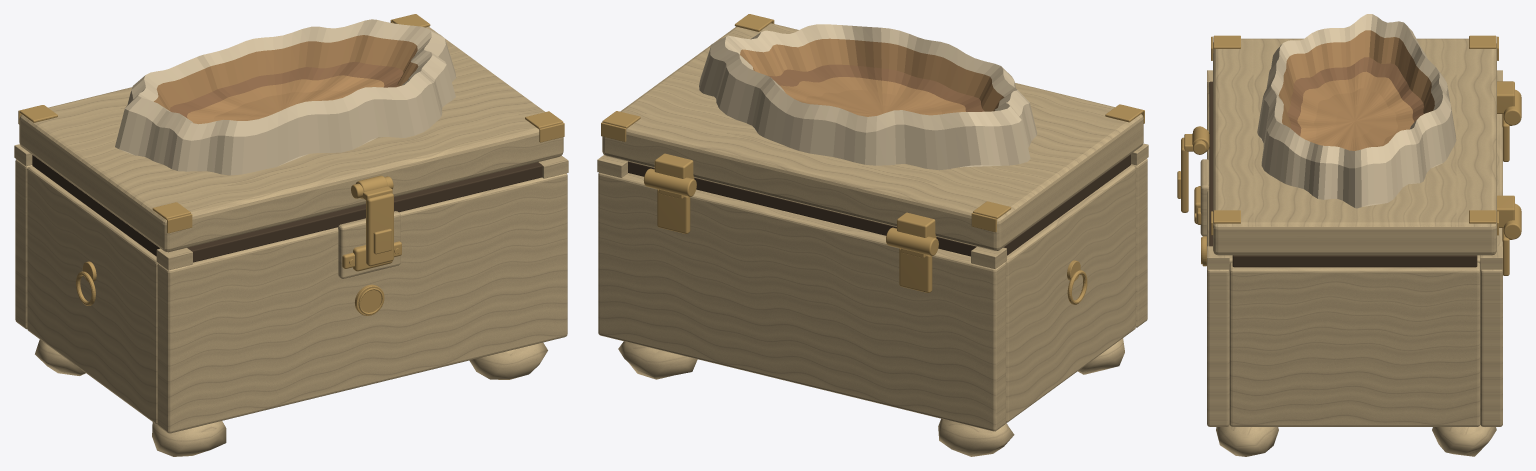
File: israel.glb
3 views of the same model, side by side, from view 1: azimuth 30°, elevation 25°; view 2: azimuth 150°, elevation 25°; view 3: azimuth 270°, elevation 25° (orthographic). The views are drawn at different scales.
Parts seen in each view (by area): view 1: Limestone / long wall, Lid / polished slab, Terrain / Negev erosion basin, Limestone / end wall, Mineral seam / long, Limestone / long wall.001, Limestone foot, Limestone foot.002, Latch / lifting hasp, Limestone / clasp seat, Mineral seam / side, Limestone foot.001 (+2 smaller); view 2: Limestone / long wall.001, Lid / polished slab, Terrain / Negev erosion basin, Limestone / end wall, Mineral seam / long.001, Limestone / long wall, Limestone foot.001, Limestone foot.003, Mineral seam / side, Hinge / fixed mount.001, Hinge / fixed mount, Hinge / fixed barrel (+5 smaller); view 3: Limestone / end wall.001, Lid / polished slab, Terrain / Negev erosion basin, Limestone / long wall.001, Limestone / long wall, Mineral seam / side.001, Limestone foot.002, Limestone foot.003, Limestone / clasp seat, Mineral seam / long, Latch / lifting hasp, Hinge / moving leaf (+9 smaller).
Boxes of the visible parts, box(x1,y1,x2,y2) form: Limestone / long wall: box(157, 173, 567, 433); Lid / polished slab: box(19, 26, 563, 252); Terrain / Negev erosion basin: box(115, 19, 456, 175); Limestone / end wall: box(27, 166, 158, 424); Mineral seam / long: box(187, 162, 542, 262); Limestone / long wall.001: box(15, 159, 32, 329); Limestone foot: box(152, 421, 226, 456); Limestone foot.002: box(469, 342, 547, 379); Latch / lifting hasp: box(366, 193, 393, 266); Limestone / clasp seat: box(338, 211, 400, 278); Mineral seam / side: box(32, 155, 159, 256); Limestone foot.001: box(35, 339, 85, 375); Limestone / long wall.001: box(598, 172, 1005, 431); Lid / polished slab: box(602, 23, 1143, 250); Terrain / Negev erosion basin: box(699, 24, 1036, 170); Limestone / end wall: box(1005, 165, 1135, 422); Mineral seam / long.001: box(628, 161, 976, 256); Limestone / long wall: box(1131, 158, 1147, 327); Limestone foot.001: box(938, 418, 1014, 456); Limestone foot.003: box(618, 341, 697, 379); Mineral seam / side: box(1003, 154, 1130, 255); Hinge / fixed mount.001: box(657, 189, 690, 233); Hinge / fixed mount: box(899, 248, 932, 292); Hinge / fixed barrel: box(886, 227, 938, 255); Limestone / end wall.001: box(1229, 262, 1480, 426); Lid / polished slab: box(1213, 38, 1496, 255); Terrain / Negev erosion basin: box(1257, 14, 1456, 208); Limestone / long wall.001: box(1480, 114, 1502, 426); Limestone / long wall: box(1207, 93, 1229, 426); Mineral seam / side.001: box(1232, 255, 1477, 267); Limestone foot.002: box(1216, 425, 1278, 456); Limestone foot.003: box(1432, 425, 1496, 456); Limestone / clasp seat: box(1200, 159, 1209, 236); Mineral seam / long: box(1209, 81, 1212, 246); Latch / lifting hasp: box(1181, 137, 1188, 212); Hinge / moving leaf: box(1497, 81, 1514, 113).
Size of the model in its own units: 3.79 by 2.77 by 2.88.
6 materials, 1 textured.
